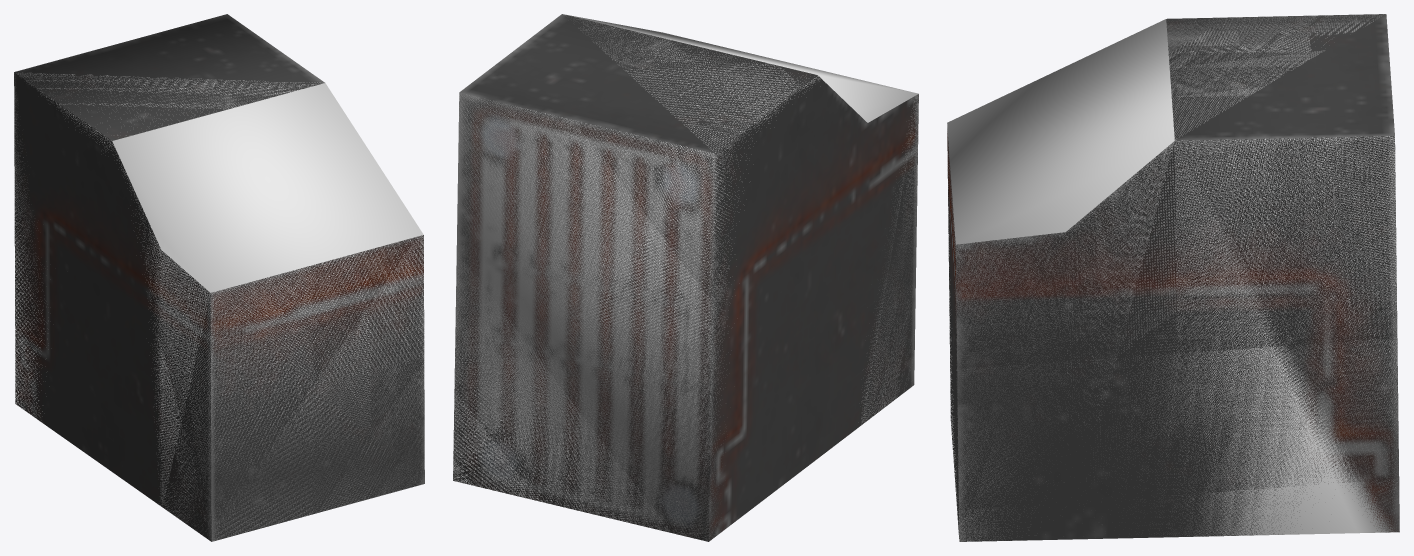
The picture shows the model from 3 angles, left to right: view 1: azimuth 30°, elevation 25°; view 2: azimuth 150°, elevation 25°; view 3: azimuth 270°, elevation 25°; orthographic projection. The views are drawn at different scales.
Visible parts, largest first — view 1: weapon_machinegun_l_01_breech, weapon_machinegun_l_01_breech_col; view 2: weapon_machinegun_l_01_breech, weapon_machinegun_l_01_breech_col; view 3: weapon_machinegun_l_01_breech, weapon_machinegun_l_01_breech_col.
Boxes of the visible parts, x1,y1,x2,y2 form: weapon_machinegun_l_01_breech: (14, 14, 424, 541); weapon_machinegun_l_01_breech_col: (14, 72, 424, 541); weapon_machinegun_l_01_breech: (453, 14, 918, 541); weapon_machinegun_l_01_breech_col: (453, 14, 918, 540); weapon_machinegun_l_01_breech: (947, 14, 1399, 541); weapon_machinegun_l_01_breech_col: (947, 14, 1399, 541).
Size of the model in its own units: 0.0708 by 0.1002 by 0.1023.
1 material, 1 textured.
